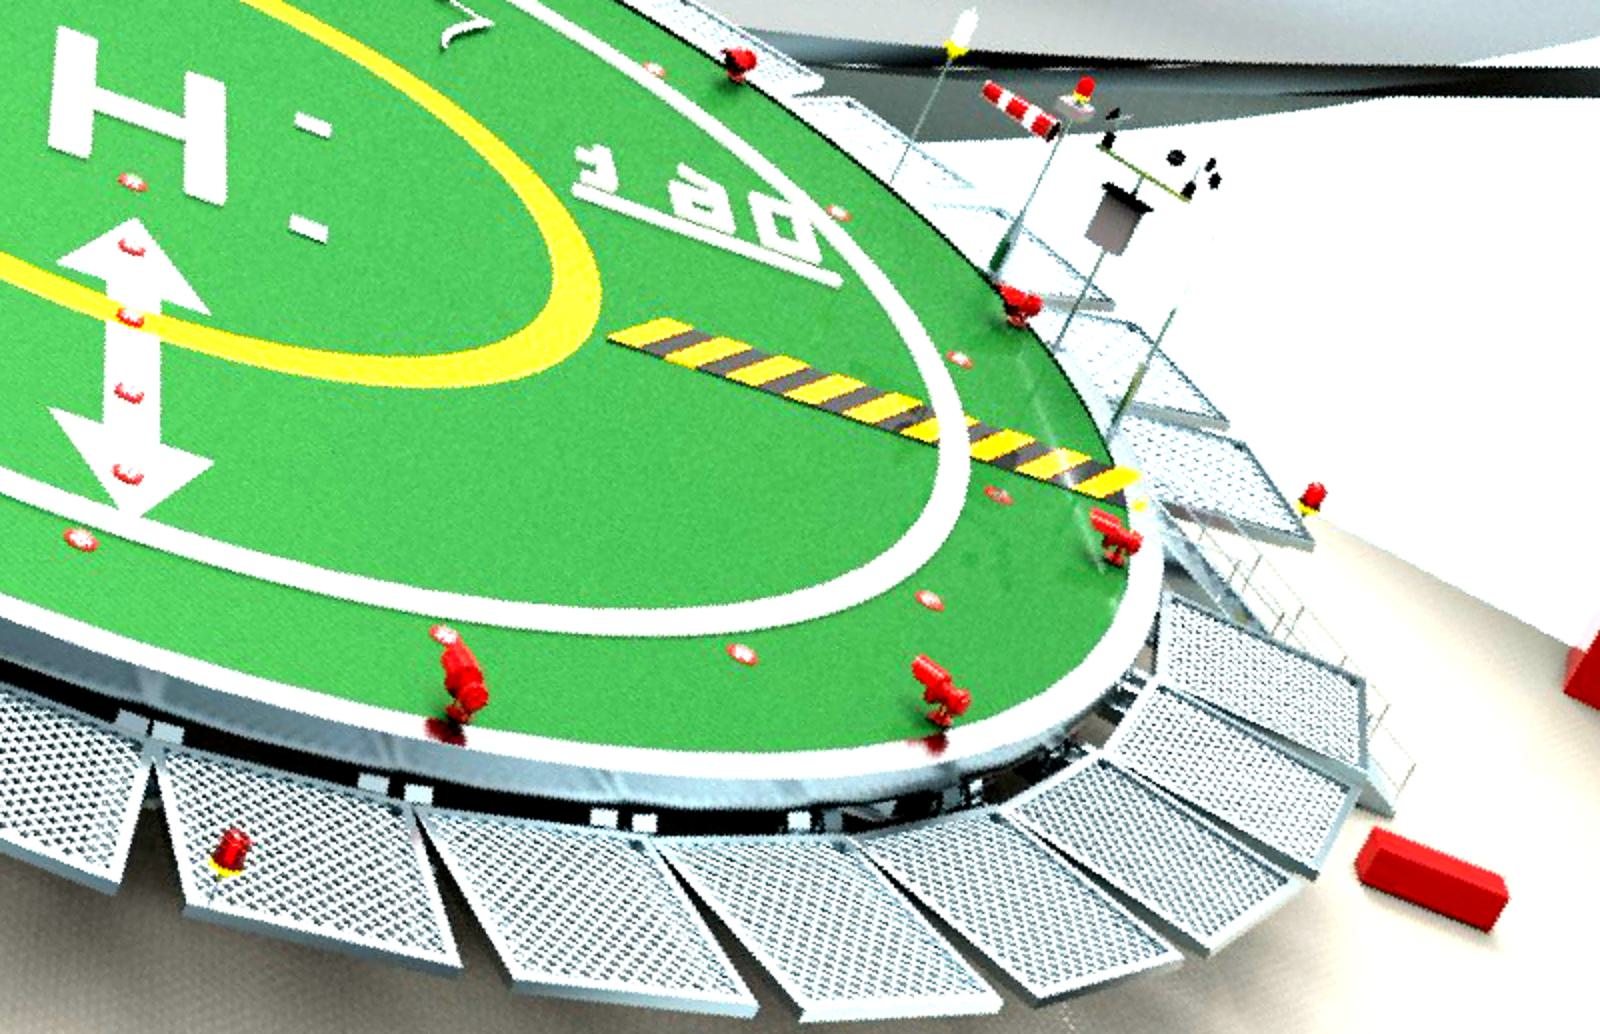Apron: (1, 1, 606, 396)
